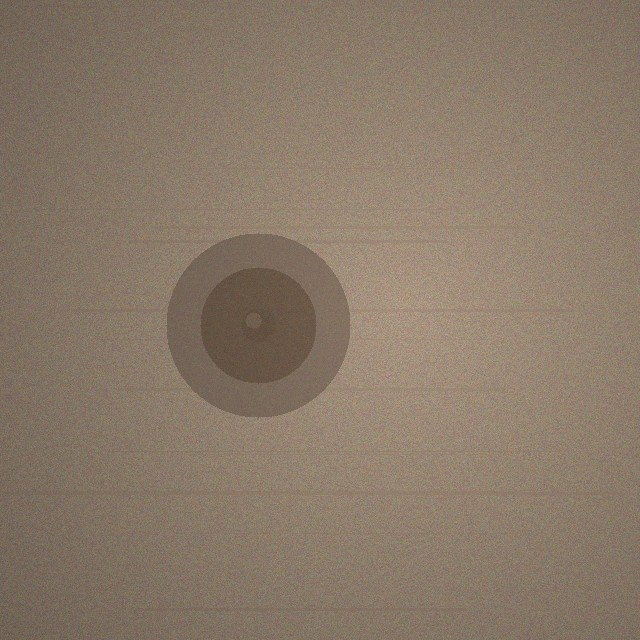good: (166, 233, 350, 417)
